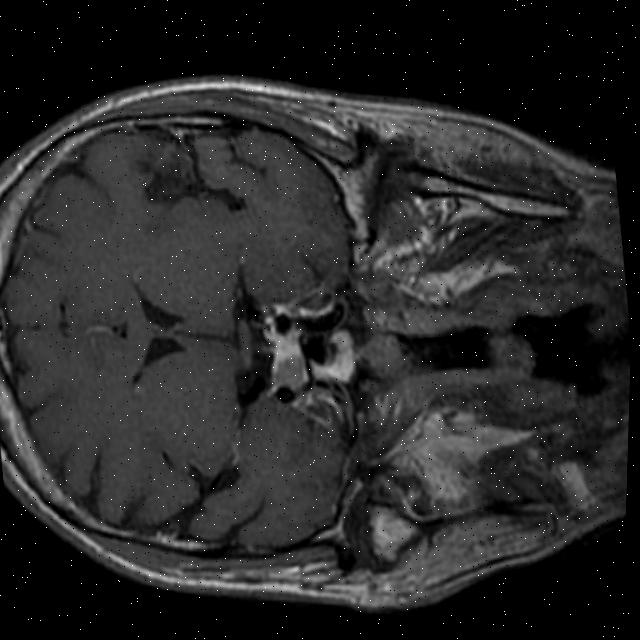Pituitary: (262, 325, 310, 391)
